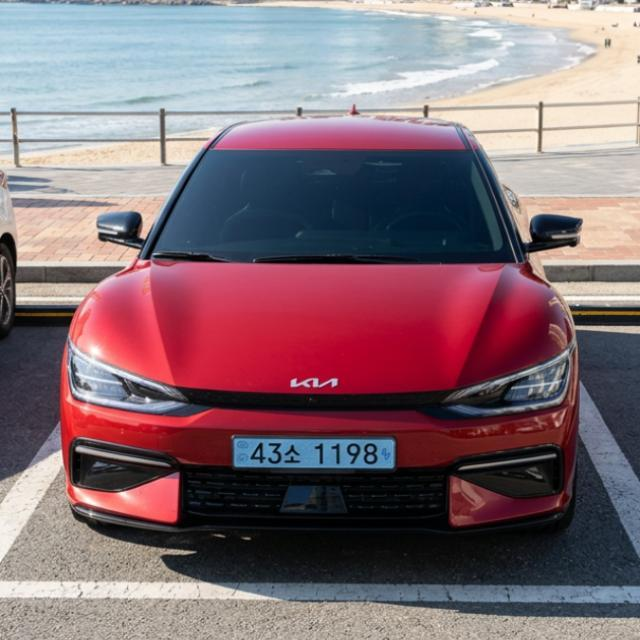car: (223, 428, 415, 484)
carev: (378, 435, 403, 470), (230, 435, 251, 475)
